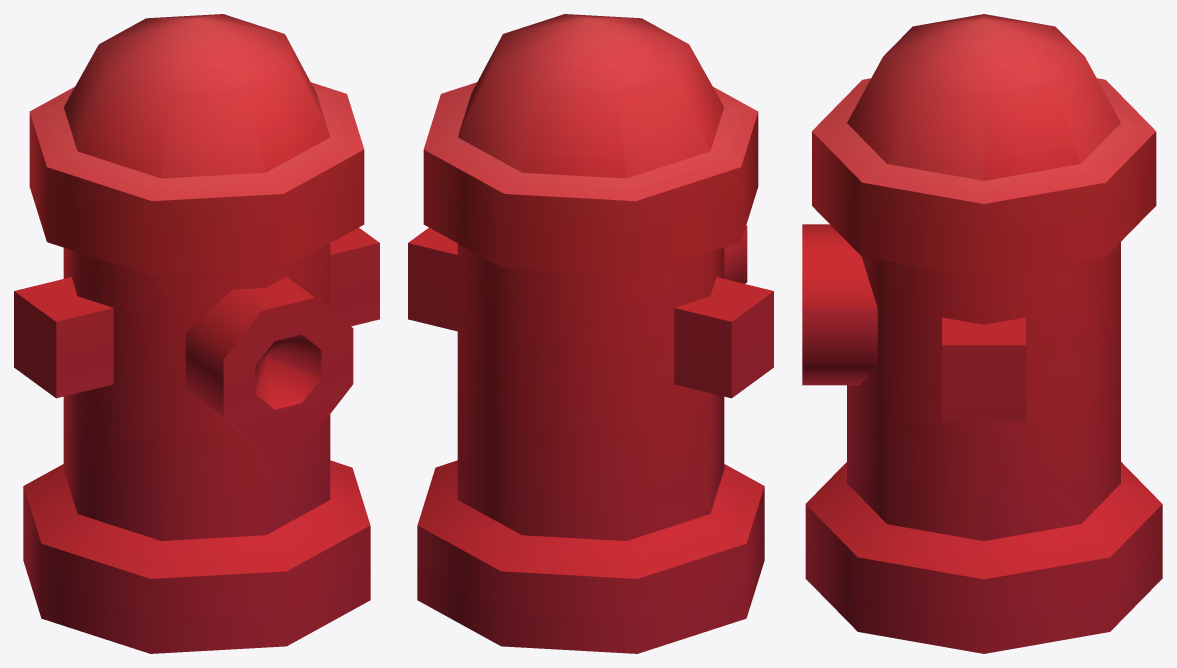
File: kk_firehydrant.glb
The picture shows the model from 3 angles, left to right: view 1: azimuth 30°, elevation 25°; view 2: azimuth 150°, elevation 25°; view 3: azimuth 270°, elevation 25°; orthographic projection.
Parts seen in each view (by area): view 1: firehydrant; view 2: firehydrant; view 3: firehydrant.
Part boxes in pixels (x1,y1,x2,y2): firehydrant: (14, 14, 379, 653); firehydrant: (408, 14, 773, 653); firehydrant: (802, 14, 1162, 653).
Size of the model in its own units: 0.1355 by 0.2246 by 0.1313.
1 material, 1 textured.
